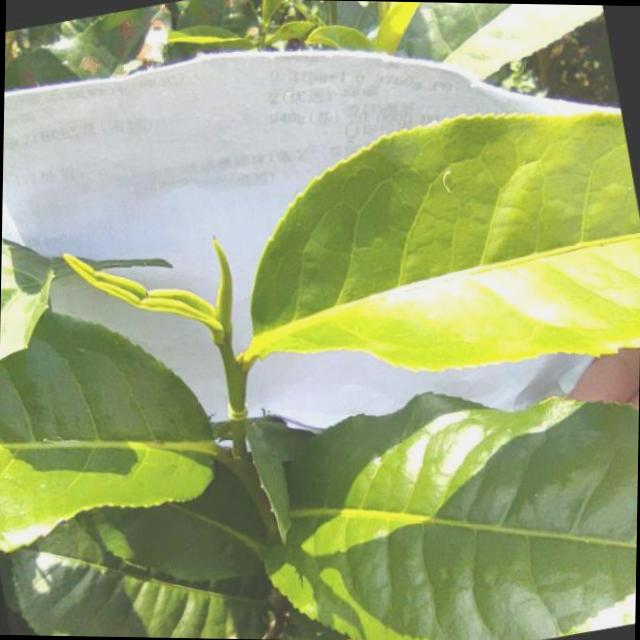Stem: (216, 342, 235, 360)
